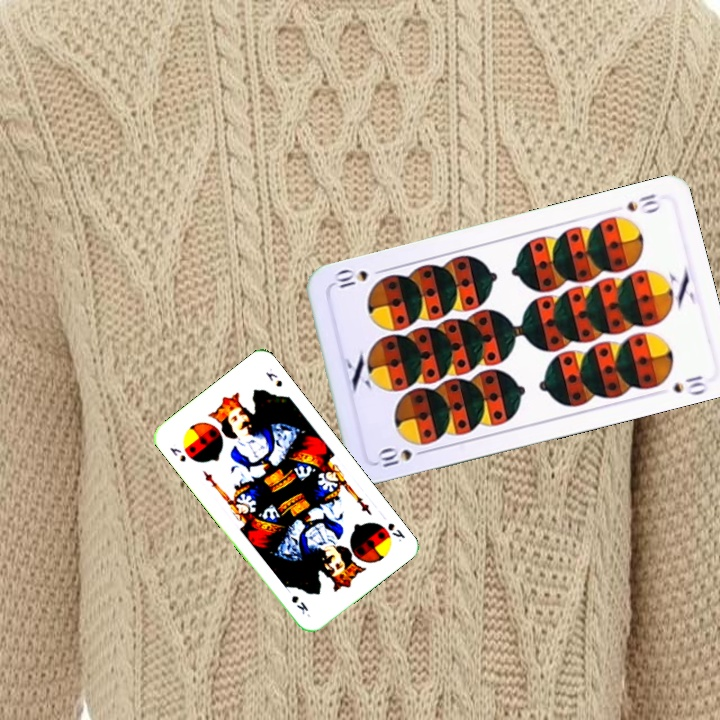S10: (372, 444, 431, 470), (622, 189, 662, 216)
SK: (384, 519, 408, 544), (166, 443, 189, 465)
